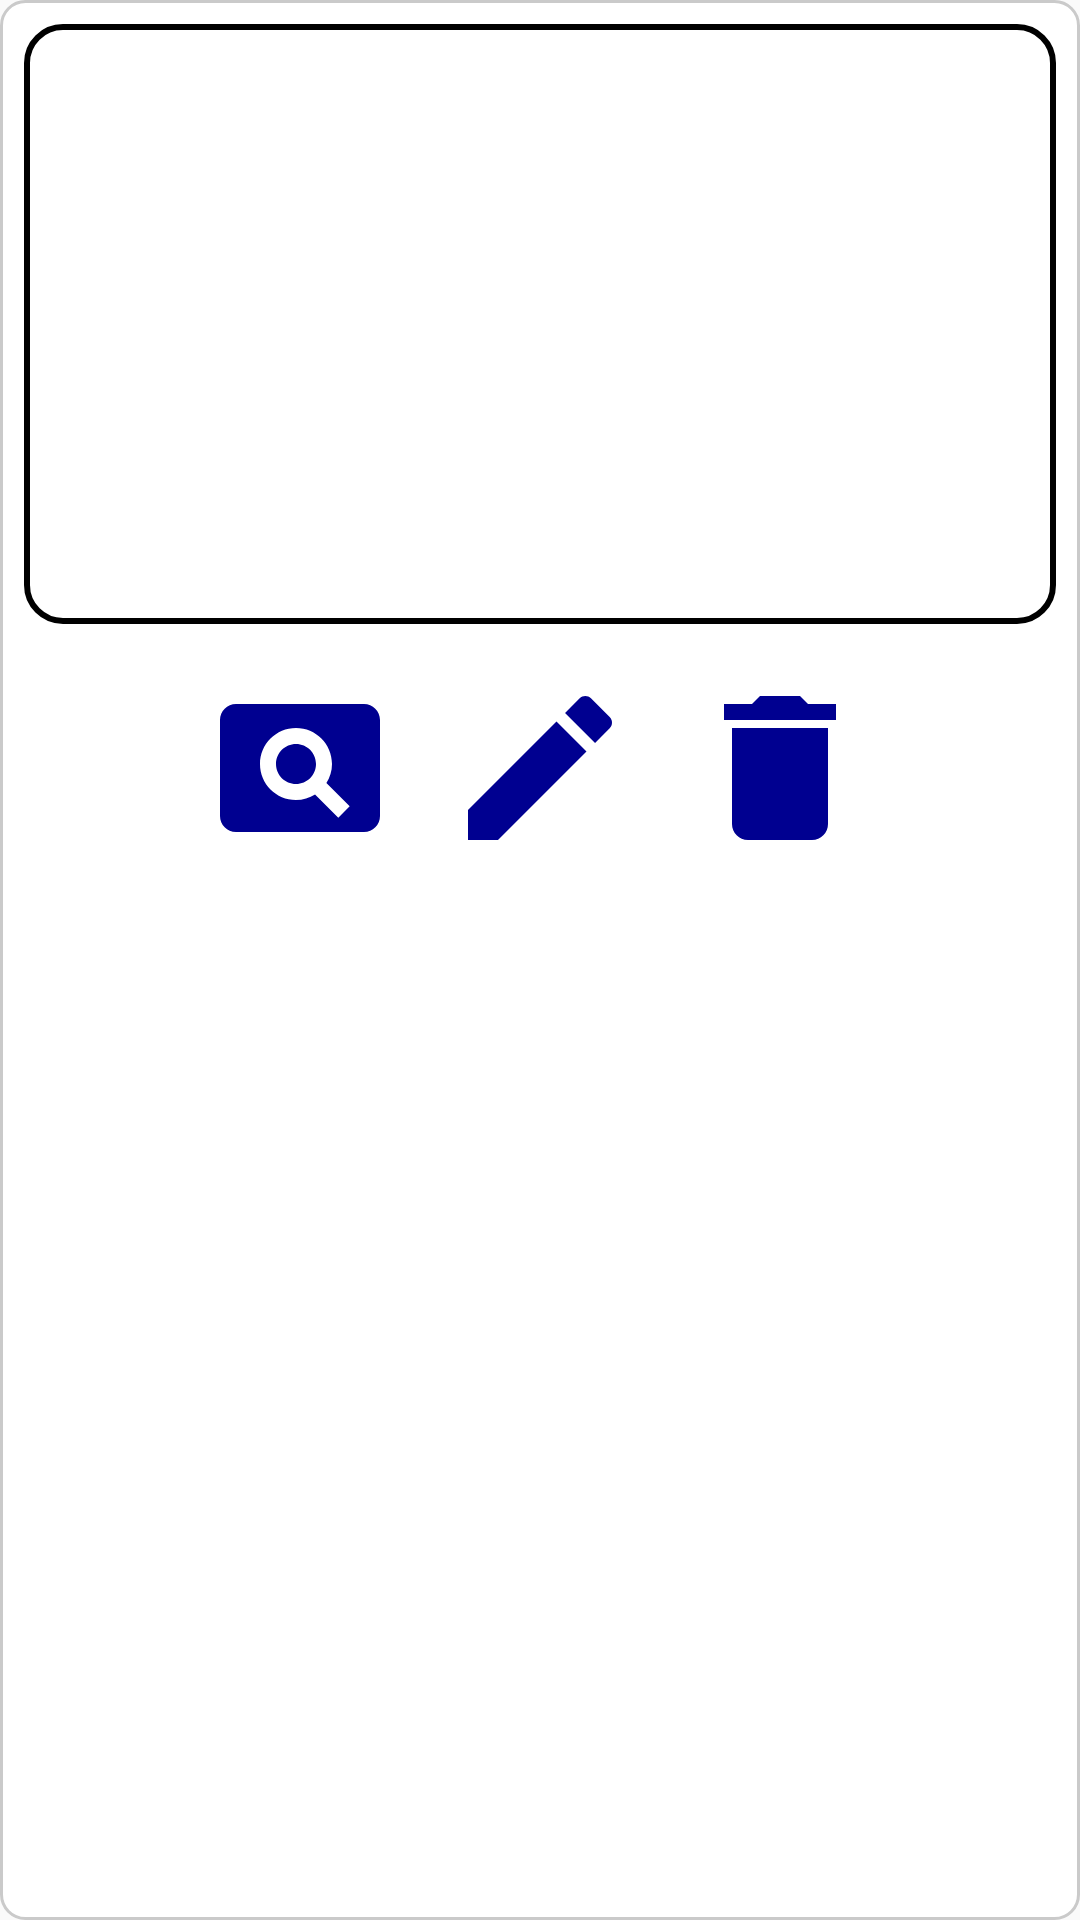

Icons on this 1080w x 1920h Android screen, each with its box as (x1, y1, x2, y2):
Modifier la description: (468, 696, 612, 840)
Voir la description: (220, 704, 380, 832)
